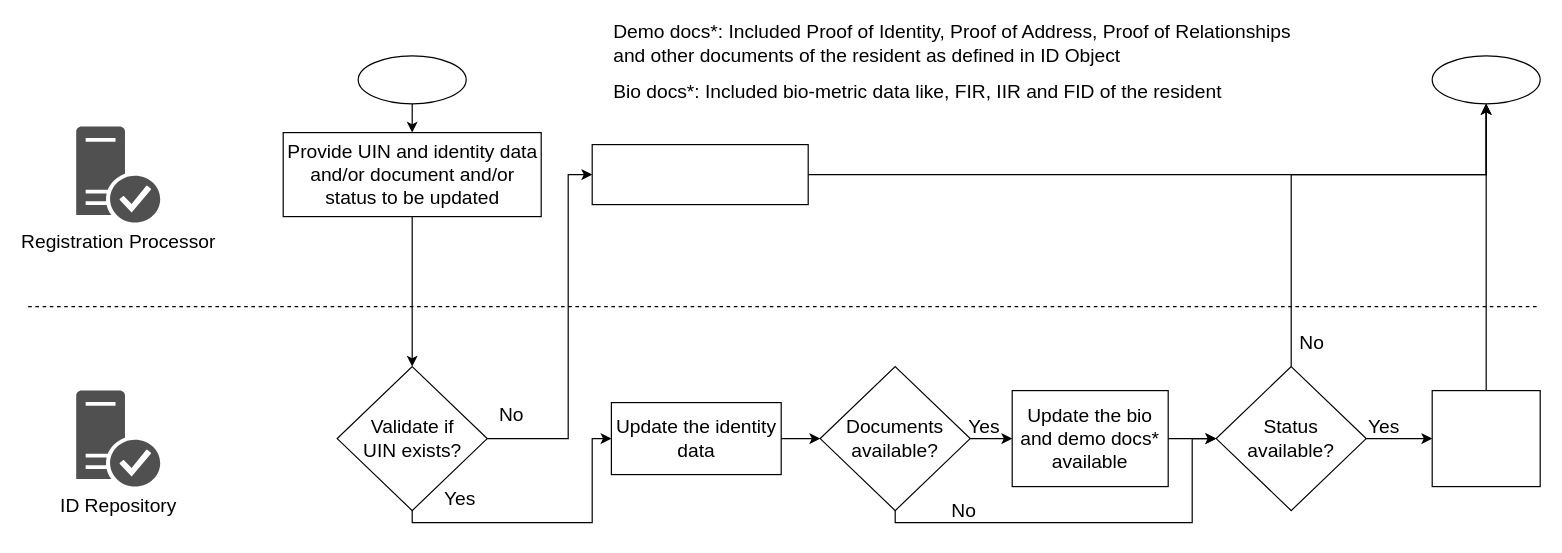
Some shapes in this 1562 by 553 pixel diagram are drawn without their labels. The shapes that lost their labels are listed below. From the top down, each one's centre as x and y in pixels, then its label:
At point (411, 79): "START".
At point (1485, 79): "STOP".
At point (699, 174): "Throws an error message".
At point (1485, 438): "Update the status".
